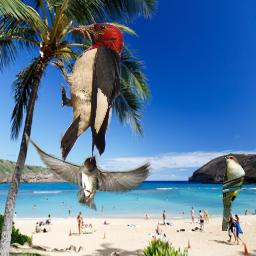Cuckoo: (220, 155, 246, 231)
Swallow: (26, 136, 153, 212)
Woodpecker: (50, 22, 124, 164)
